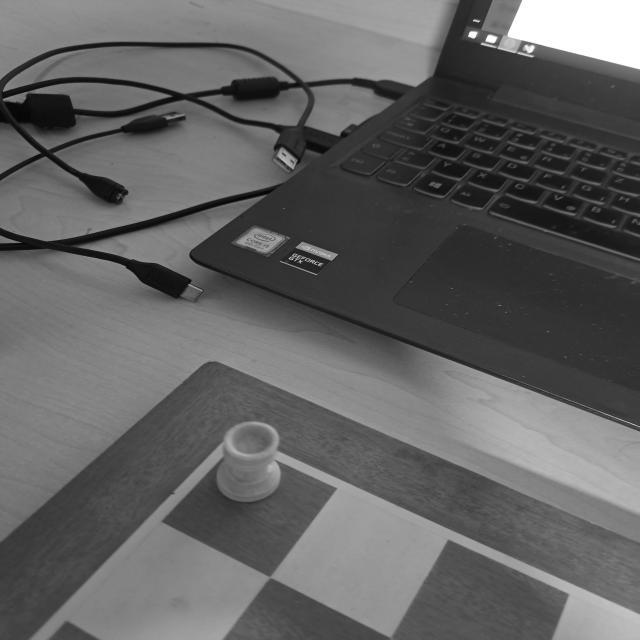chess-table-corners: (170, 414, 310, 482)
